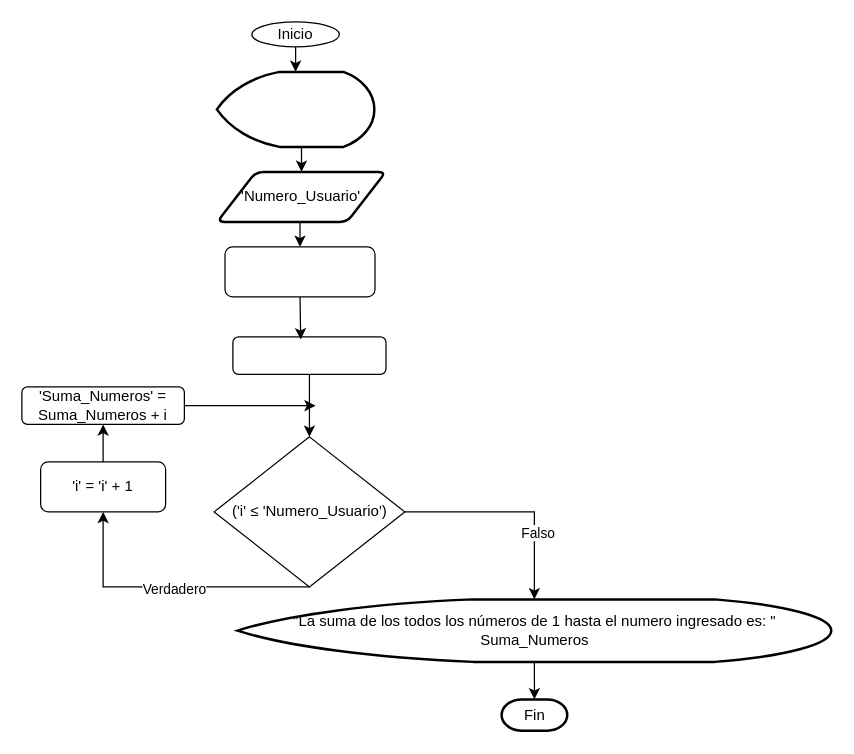
Image size: 854x754. Some labels were removed from this diagram. Here are the shapes that lost their labels. From the top down, the centre of each, then its label:
pixel 295 109: "Ingrese un numero, por favor."
pixel 299 271: "i" = 0
pixel 309 355: 'Suma_Numeros' = 0
